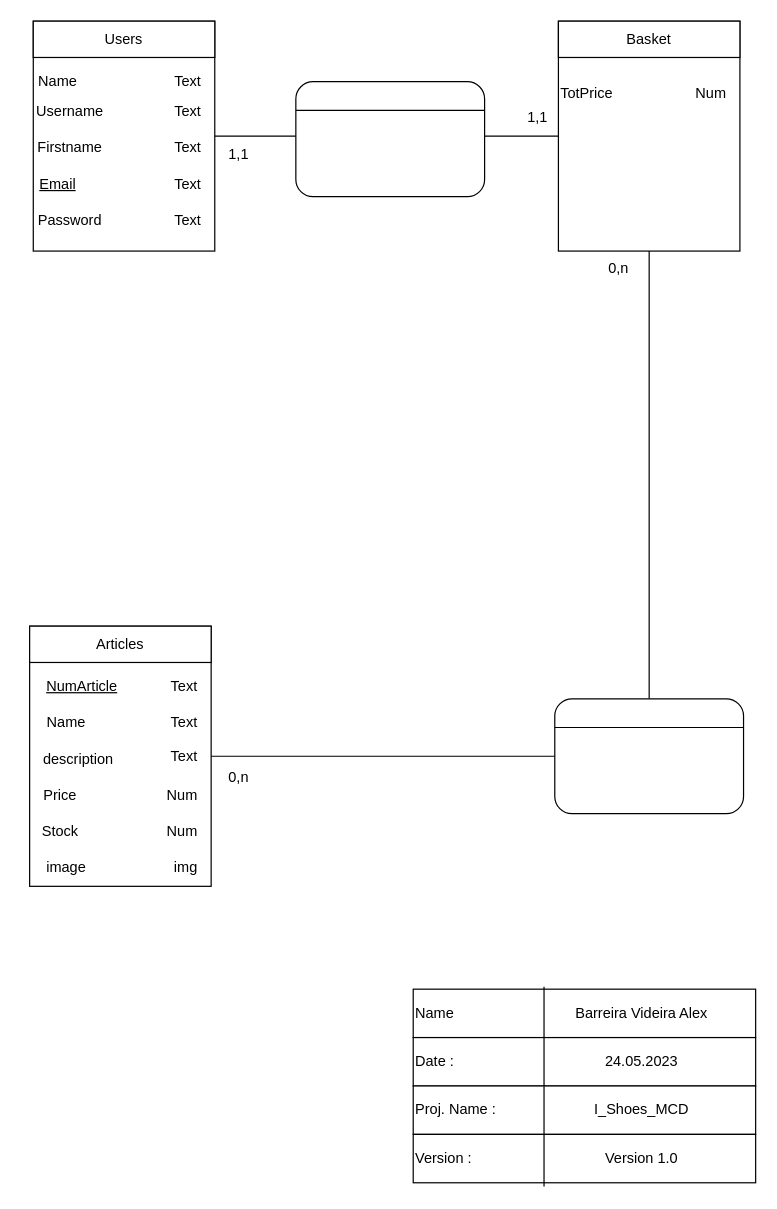
This 777x1209 diagram has some shape labels left out. The centre of each missing label's shape, as x and y in pixels:
"Have" goes at point 390,138.
"put in" goes at point 649,756.
